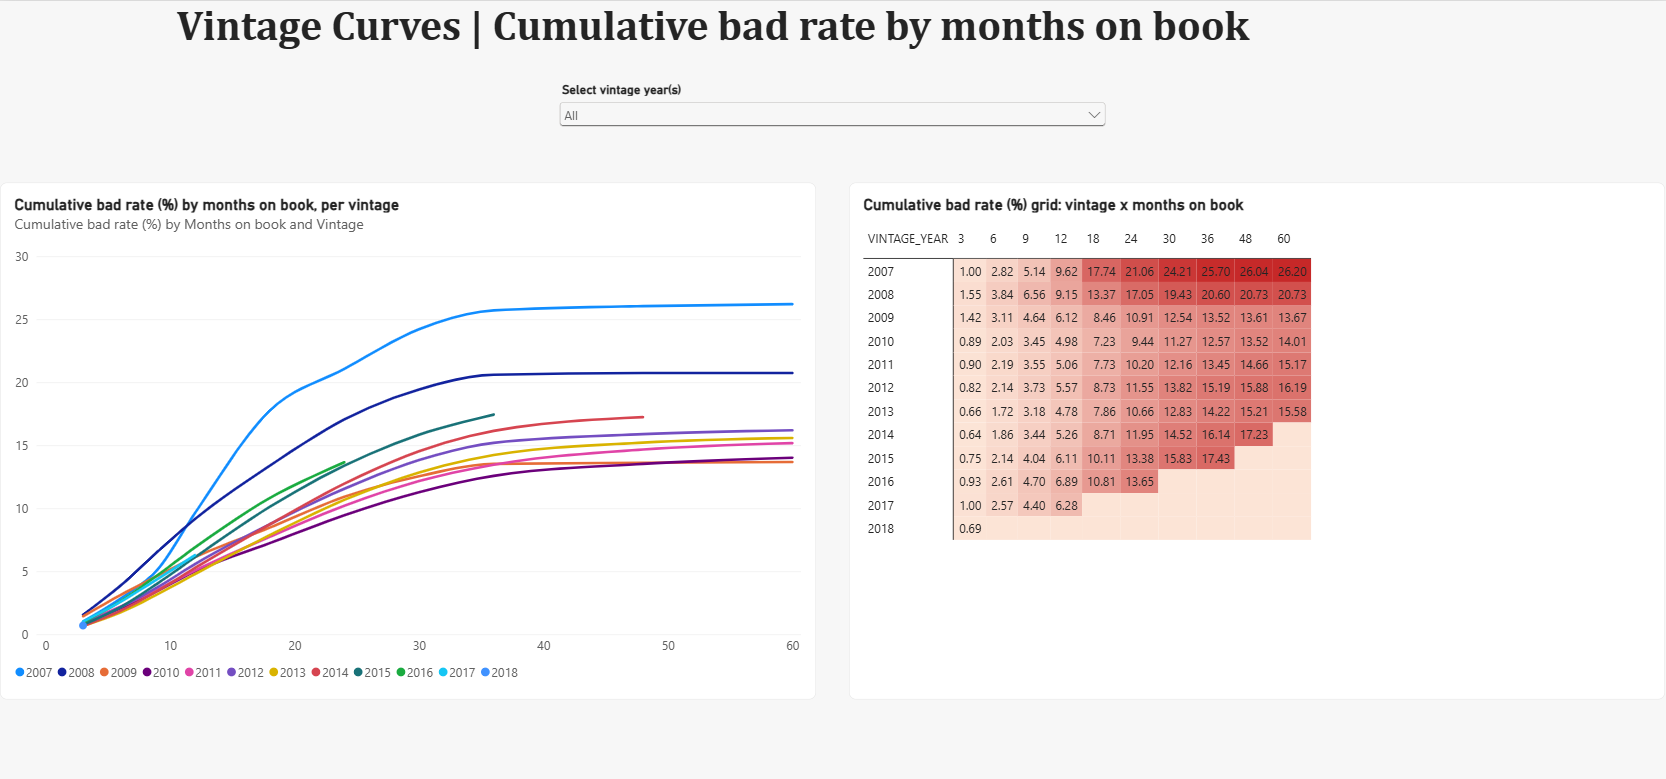

Layout of this report page (visuals, bound fields, positions):
{"tool":"powerbi","page":{"name":"Vintage Curves","canvas":[1920,1080],"ordinal":2},"visuals":[{"type":"textbox","box":[10,0,1622.5,105],"z":0},{"type":"lineChart","title":"Cumulative bad rate (%) by months on book, per vintage","fields":{"Category":["pbi_vintage_curves.MOB"],"Series":["pbi_vintage_curves.VINTAGE_YEAR"],"Y":["Sum(pbi_vintage_curves.CUM_BAD_RATE_PCT)"]},"box":[0,208.8,940.8,596.1],"z":1},{"type":"slicer","fields":{"Values":["pbi_vintage_curves.VINTAGE_YEAR"]},"box":[639.8,93.4,639.8,140.1],"z":2},{"type":"pivotTable","title":"Cumulative bad rate (%) grid: vintage x months on book","fields":{"Columns":["pbi_vintage_curves.MOB"],"Rows":["pbi_vintage_curves.VINTAGE_YEAR"],"Values":["Sum(pbi_vintage_curves.CUM_BAD_RATE_PCT)"]},"box":[979.3,208.8,940.8,596.1],"z":3}]}

Visuals, with their boxes on the page's 1920x1080 design canvas (x1, y1, x2, y2). These are canvas units, not pixel positions in the 1666x779 screenshot, which may show the page scaled, cropped or inside an application window:
textbox: (left=10, top=0, right=1632, bottom=105)
"Cumulative bad rate (%) by months on book, per vintage" lineChart: (left=0, top=209, right=941, bottom=805)
slicer - pbi_vintage_curves.VINTAGE_YEAR: (left=640, top=93, right=1280, bottom=234)
"Cumulative bad rate (%) grid: vintage x months on book" pivotTable: (left=979, top=209, right=1920, bottom=805)
